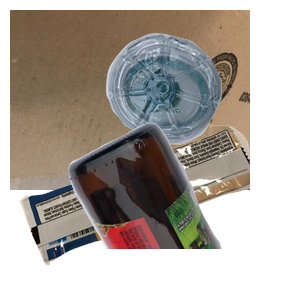cardboard: (10, 10, 250, 190)
glass: (66, 120, 300, 300)
plastic: (104, 31, 300, 168)
trash: (17, 123, 257, 300)
